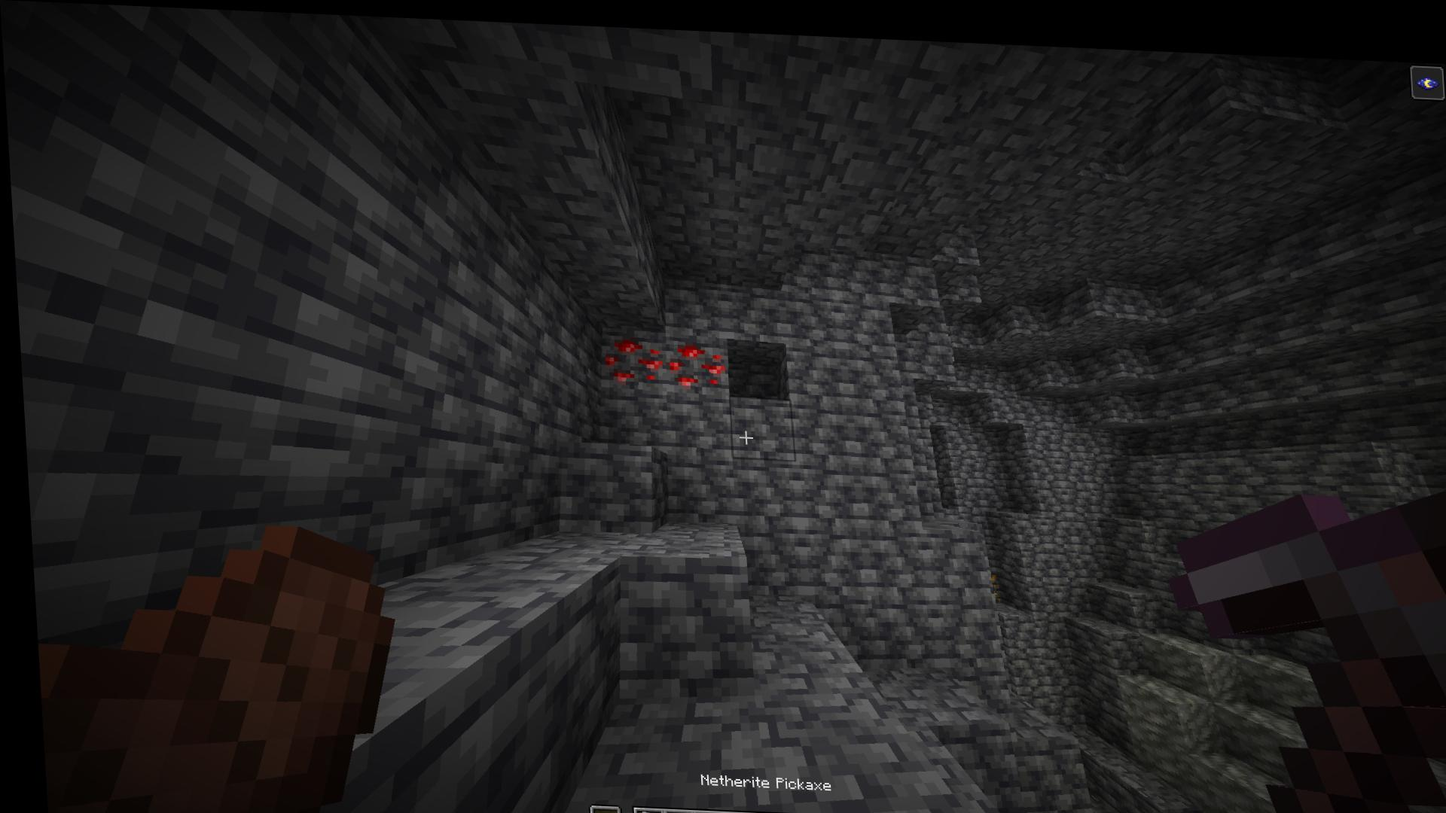redstone ore: (657, 331, 724, 388), (594, 327, 659, 385)
